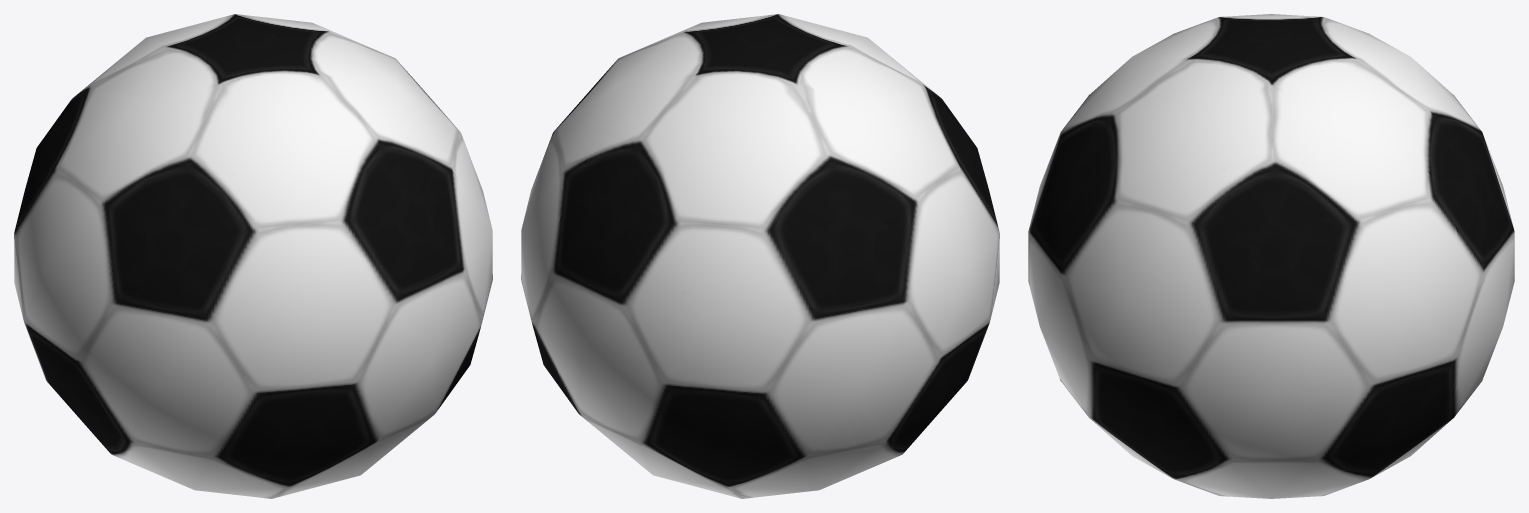
Rendered from ball2.FBX.
3 views of the same model, side by side, from view 1: azimuth 30°, elevation 25°; view 2: azimuth 150°, elevation 25°; view 3: azimuth 270°, elevation 25° (orthographic).
Parts seen in each view (by area): view 1: GeoSphere001; view 2: GeoSphere001; view 3: GeoSphere001.
Boxes of the visible parts, x1,y1,x2,y2 form: GeoSphere001: (14, 14, 492, 498); GeoSphere001: (521, 14, 999, 498); GeoSphere001: (1028, 14, 1514, 498).
Bounding box in the file's own units: 69.8 × 70.83 × 69.63.
Materials: 1 (1 with a texture image).
